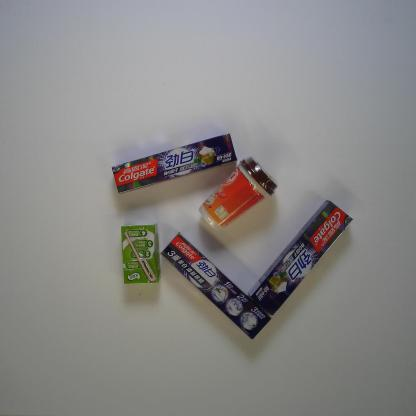Instant Drink: (198, 155, 279, 232)
Milk: (120, 223, 161, 284)
Personal Hygiene: (248, 199, 355, 316), (159, 232, 272, 340), (111, 132, 238, 194)
